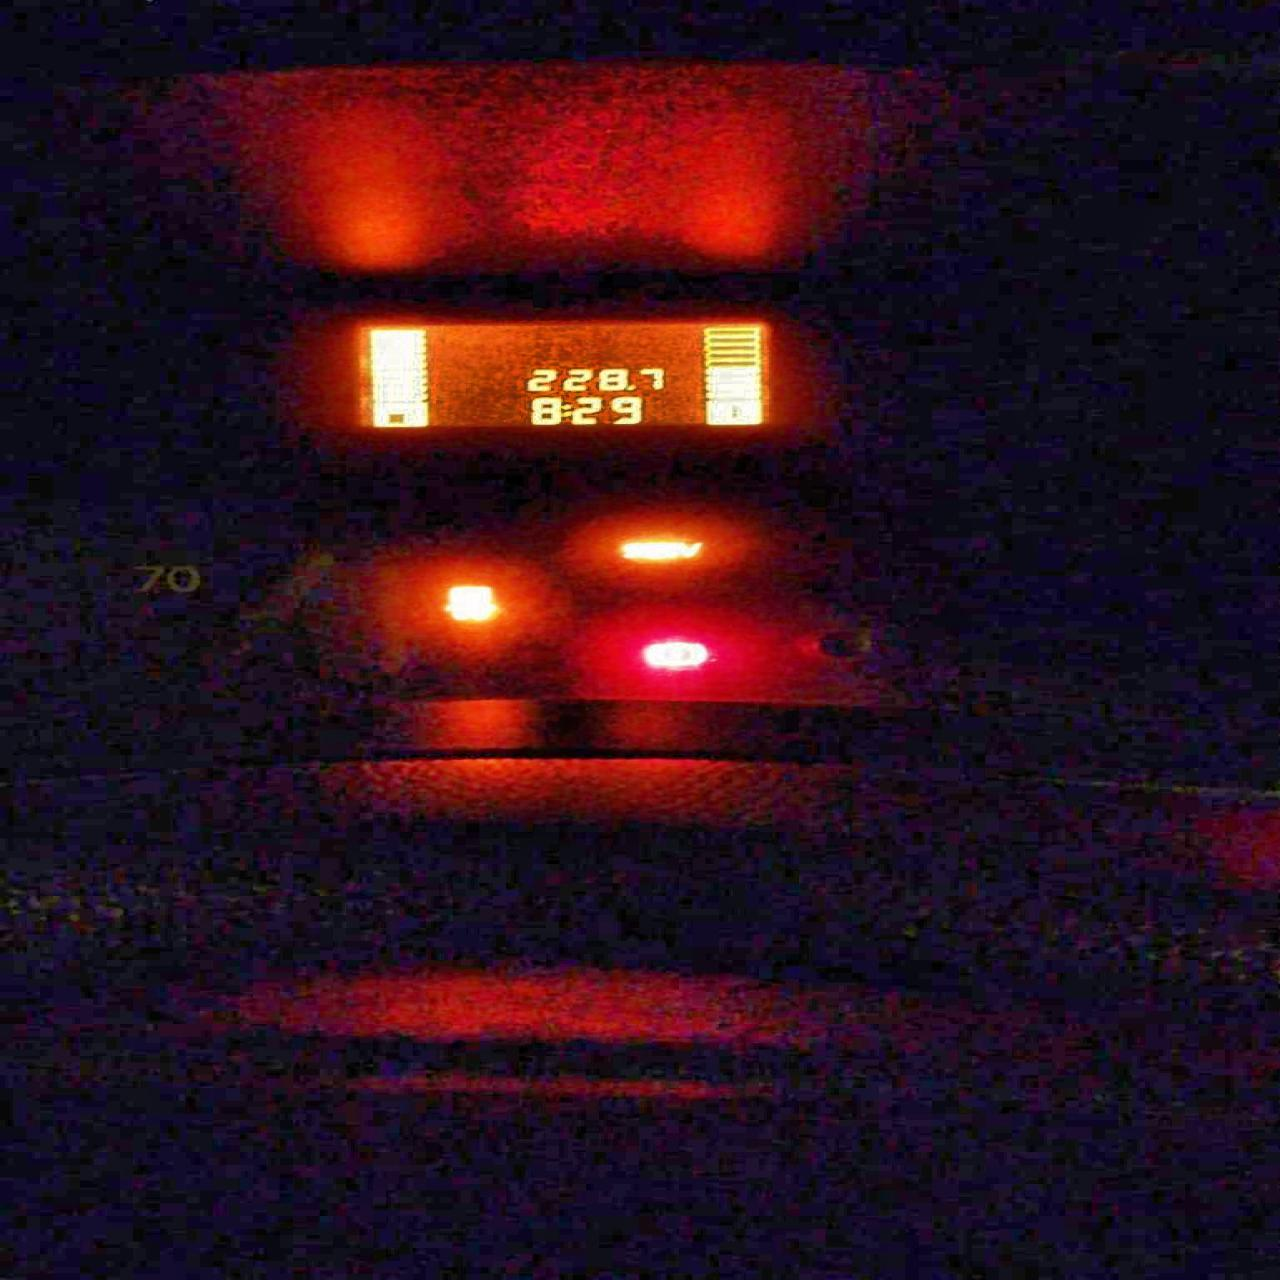-: (625, 383, 635, 390)
2: (570, 396, 601, 425), (559, 368, 593, 390), (524, 368, 556, 392)
7: (638, 367, 665, 390)
8: (530, 396, 560, 425), (595, 368, 627, 390)
9: (610, 396, 641, 424)
X: (559, 403, 571, 417)
odometer: (345, 318, 775, 430)
